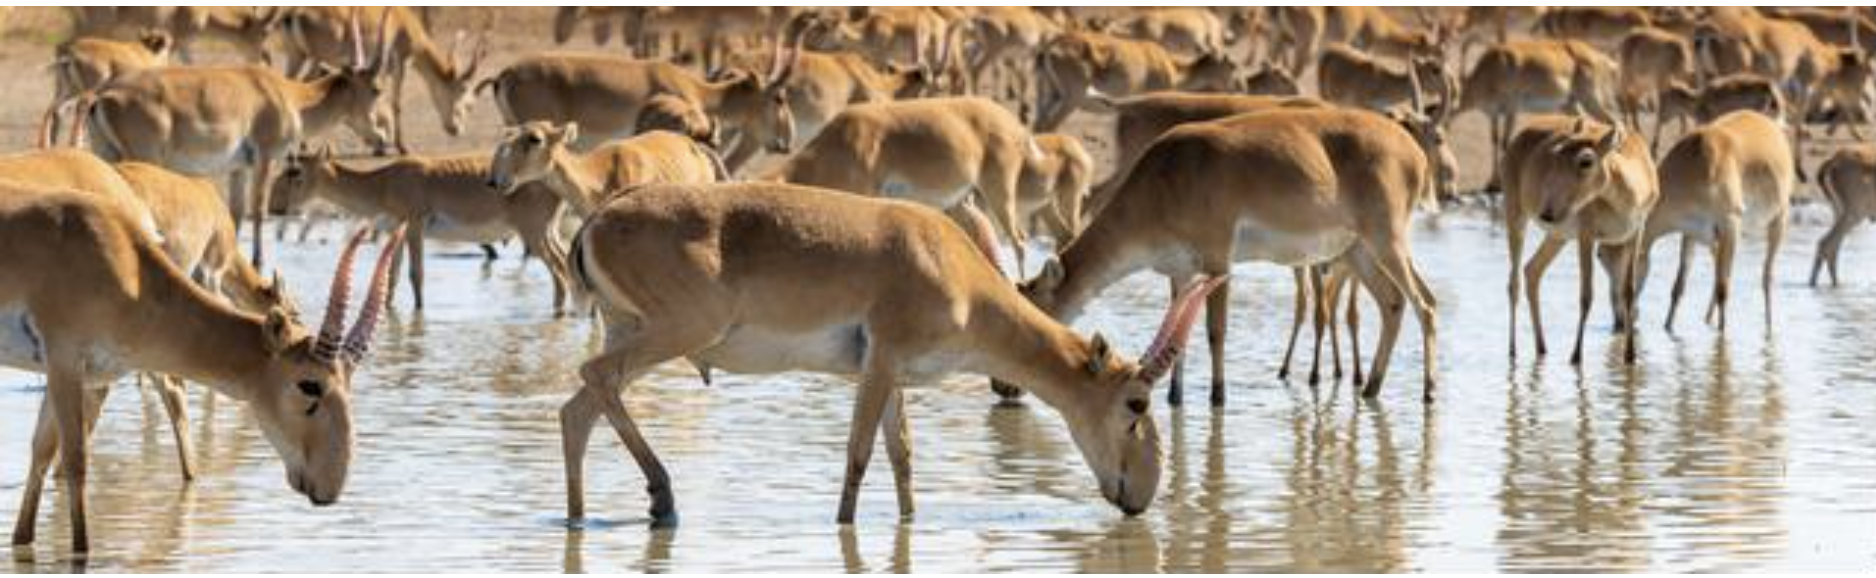saiga: (520, 176, 1211, 578)
